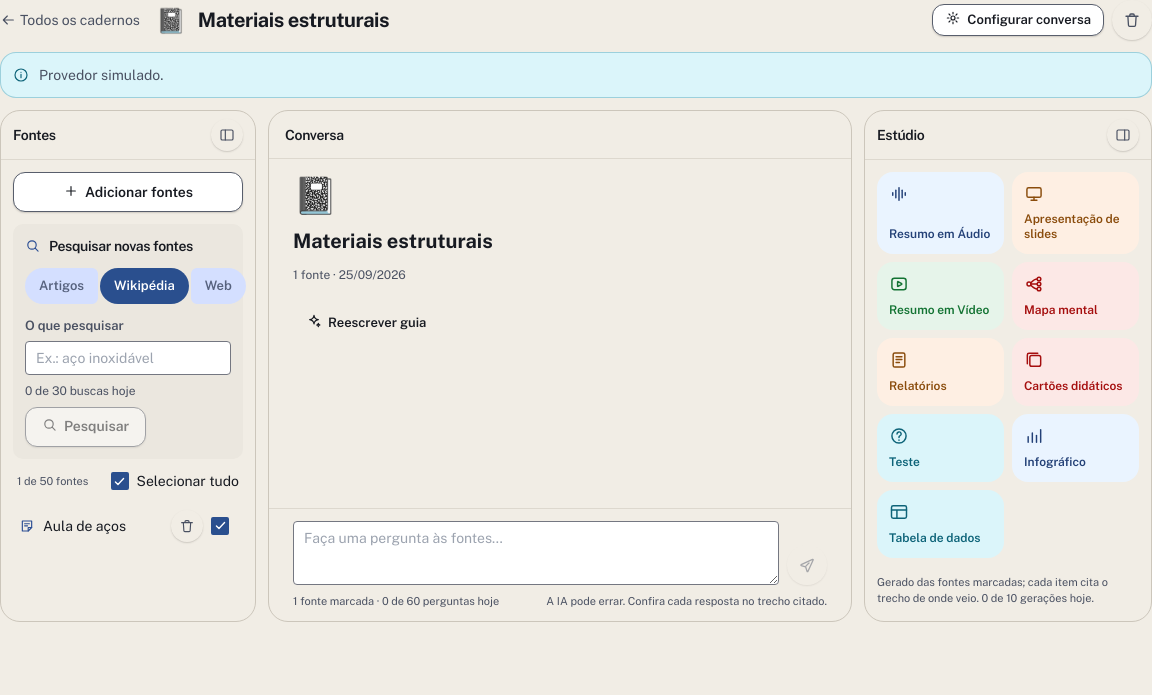
Estúdio: criar › the custom report cannot be generated without the student's words
Click the button "Relatórios": (940, 372) [877,338,1004,406]
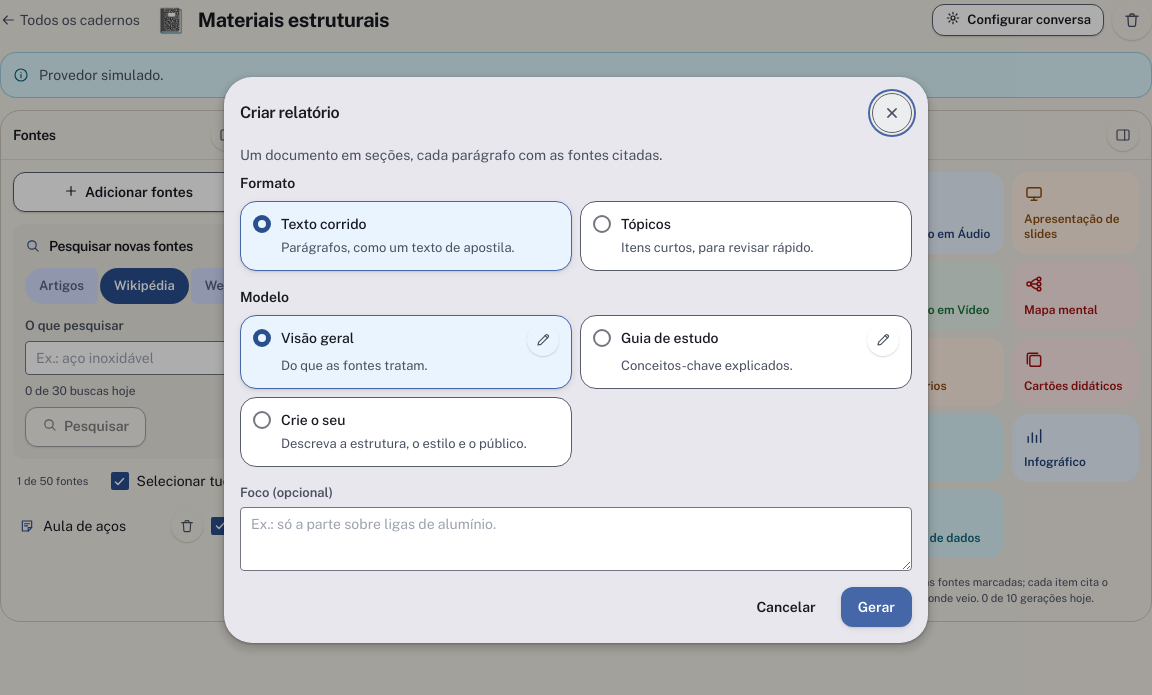
Click the radio button labelled "Crie o seu": (313, 420) [281,412,345,428]
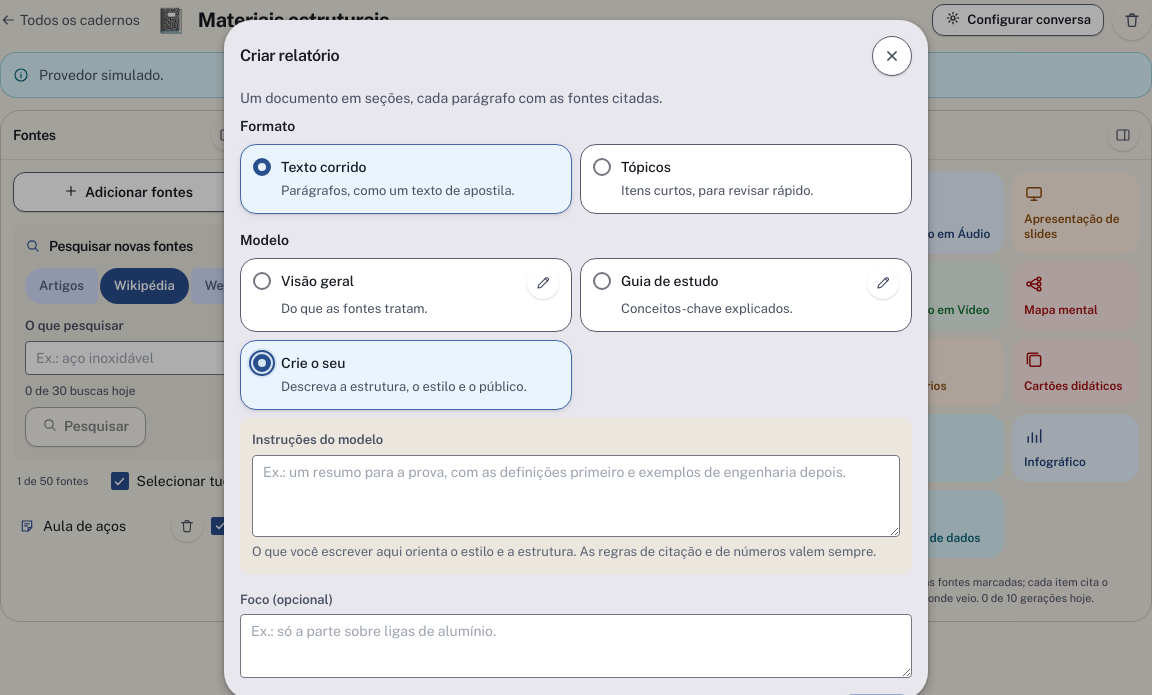
In the text box labelled "Instruções do modelo": (576, 496) [252,454,900,536], type "Um resumo."
(page scrolled)
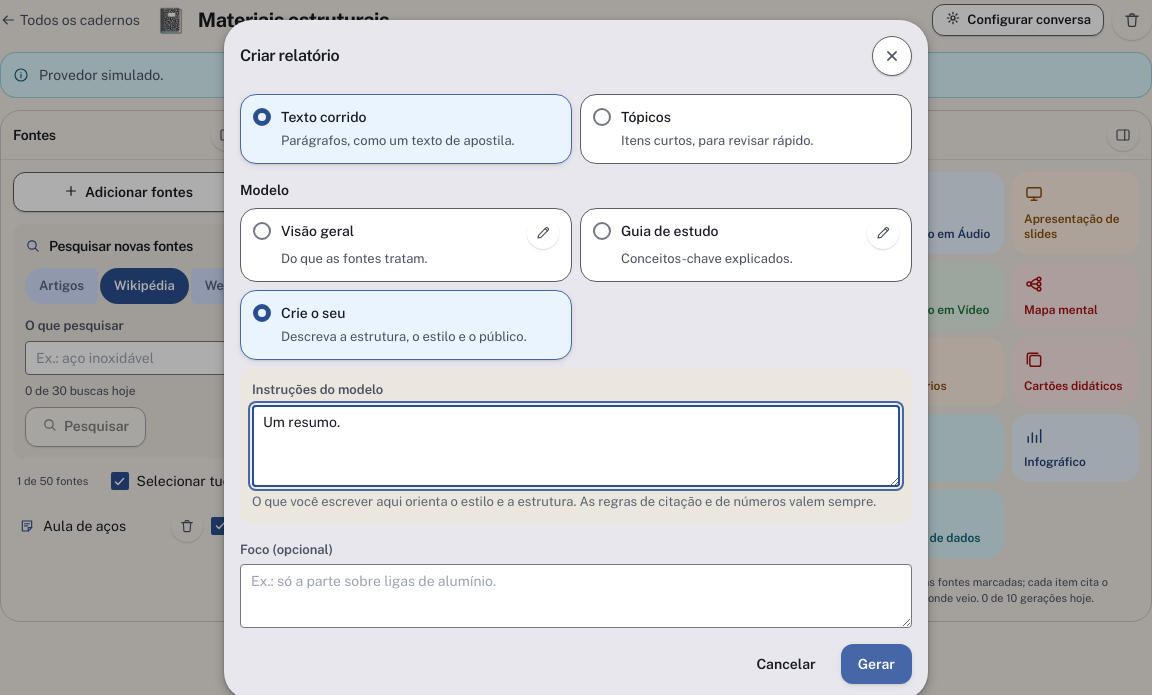
Check: the button "Gerar" is enabled, box [841,644,912,684]
